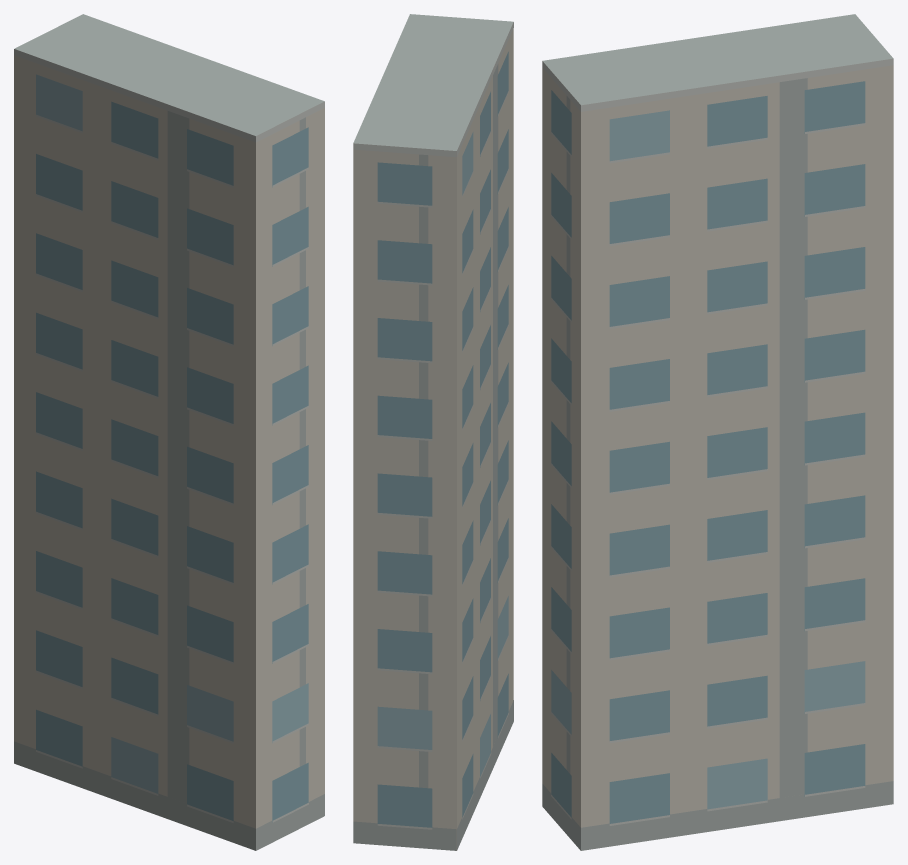
The model's file is residential-c6468dae-aa99-430c-94de-6c233a40fa66.glb.
The picture shows the model from 3 angles, left to right: view 1: azimuth 30°, elevation 25°; view 2: azimuth 150°, elevation 25°; view 3: azimuth 270°, elevation 25°; orthographic projection. The views are drawn at different scales.
Visible parts, largest first — view 1: residential-c6468dae-aa99-430c-94de-6c233a40fa66.tmp; view 2: residential-c6468dae-aa99-430c-94de-6c233a40fa66.tmp; view 3: residential-c6468dae-aa99-430c-94de-6c233a40fa66.tmp.
Part boxes in pixels (x1,y1,x2,y2): residential-c6468dae-aa99-430c-94de-6c233a40fa66.tmp: [14, 14, 324, 850]; residential-c6468dae-aa99-430c-94de-6c233a40fa66.tmp: [353, 14, 513, 850]; residential-c6468dae-aa99-430c-94de-6c233a40fa66.tmp: [542, 14, 893, 850].
Size of the model in its own units: 7.22 by 27.45 by 11.73.
